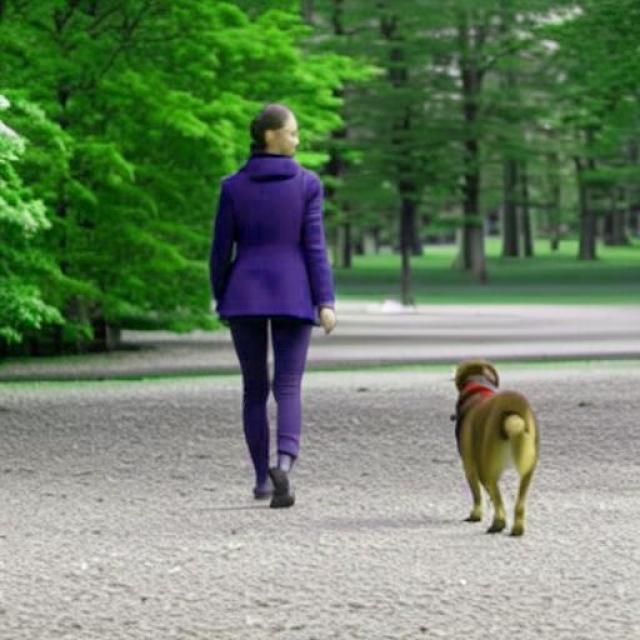Unleashed_Dog: (229, 289, 541, 538)
